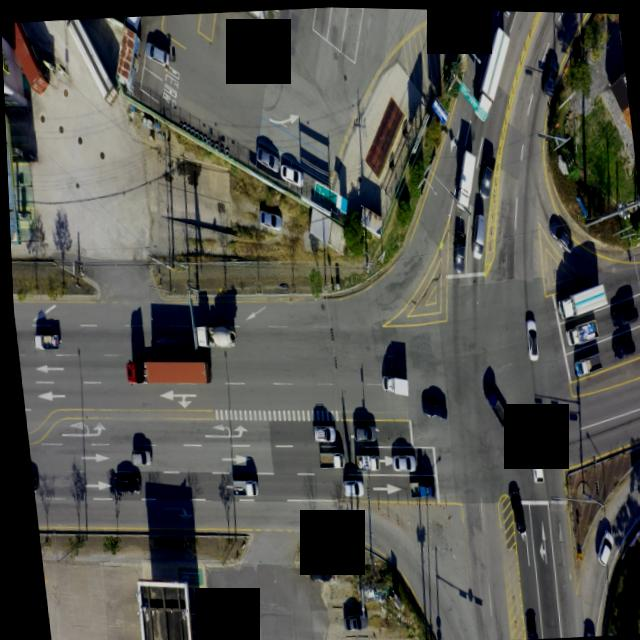car: (442, 212, 462, 267), (535, 55, 561, 97), (464, 207, 485, 257), (543, 213, 568, 250), (504, 482, 521, 530), (140, 38, 167, 68), (416, 390, 443, 419), (588, 526, 609, 563), (475, 157, 494, 196), (102, 471, 134, 494), (522, 435, 538, 480), (253, 141, 278, 169), (606, 299, 633, 324), (521, 313, 536, 358), (276, 161, 301, 186), (335, 607, 363, 629), (606, 333, 631, 356), (301, 561, 326, 581), (348, 420, 372, 440), (385, 450, 410, 469), (255, 207, 277, 227), (306, 421, 330, 439), (124, 445, 146, 464), (336, 477, 358, 495), (446, 8, 471, 14), (577, 622, 588, 634), (500, 9, 513, 16), (638, 324, 640, 345)
large_truck: (118, 351, 207, 388)
medium_truck: (462, 21, 515, 121), (62, 18, 110, 106), (550, 274, 604, 317), (448, 142, 480, 206), (188, 319, 231, 348), (224, 478, 251, 498)
small_truck: (478, 385, 503, 425), (560, 317, 594, 344), (566, 346, 599, 372), (377, 369, 405, 393), (311, 448, 339, 469), (26, 327, 53, 348), (403, 477, 429, 498), (350, 446, 374, 467), (123, 14, 140, 29), (520, 625, 534, 637)
